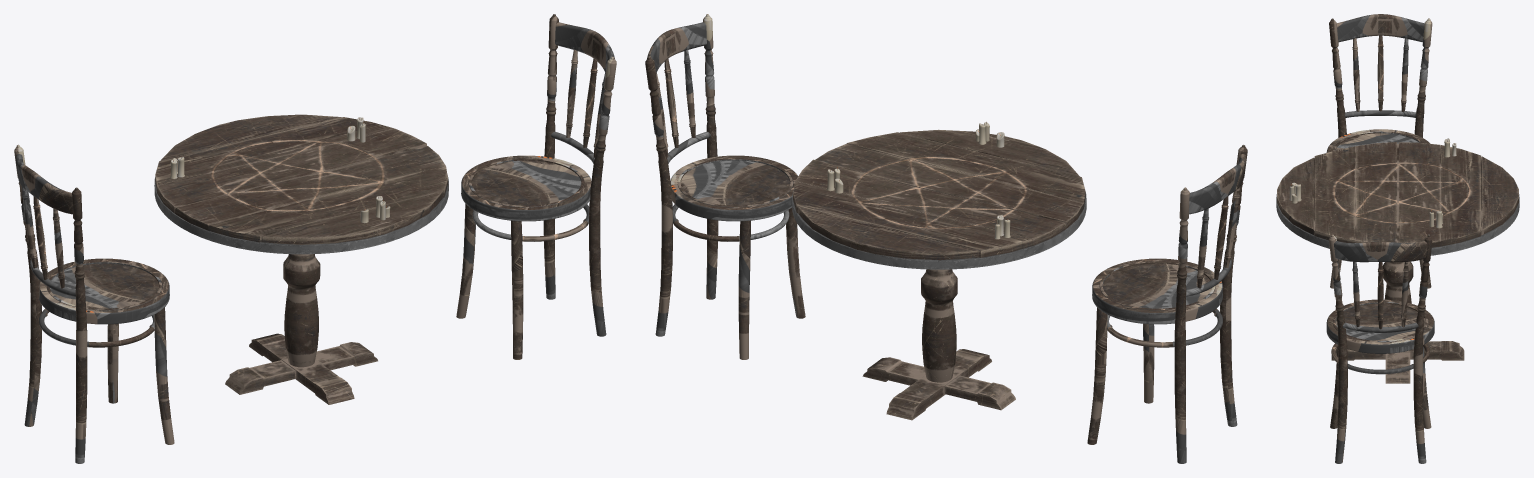
File: CHAIRS_TABEL_23-10.gltf
3 renders of one model, left to right at view 1: azimuth 30°, elevation 25°; view 2: azimuth 150°, elevation 25°; view 3: azimuth 270°, elevation 25°, orthographic. The views are drawn at different scales.
Visible parts, largest first — view 1: kolco_low_001__0, Fixator__0, Fixator__0.001; view 2: kolco_low_001__0, Fixator__0, Fixator__0.001; view 3: kolco_low_001__0, Fixator__0, Fixator__0.001.
Boxes of the visible parts, x1,y1,x2,y2 form: kolco_low_001__0: [154, 114, 448, 404]; Fixator__0: [456, 14, 616, 359]; Fixator__0.001: [14, 144, 174, 463]; kolco_low_001__0: [792, 122, 1086, 420]; Fixator__0: [645, 14, 805, 359]; Fixator__0.001: [1087, 144, 1247, 463]; kolco_low_001__0: [1276, 138, 1519, 383]; Fixator__0: [1326, 234, 1434, 463]; Fixator__0.001: [1326, 14, 1432, 288].
Size of the model in its own units: 0.7403 by 0.346 by 0.331.
